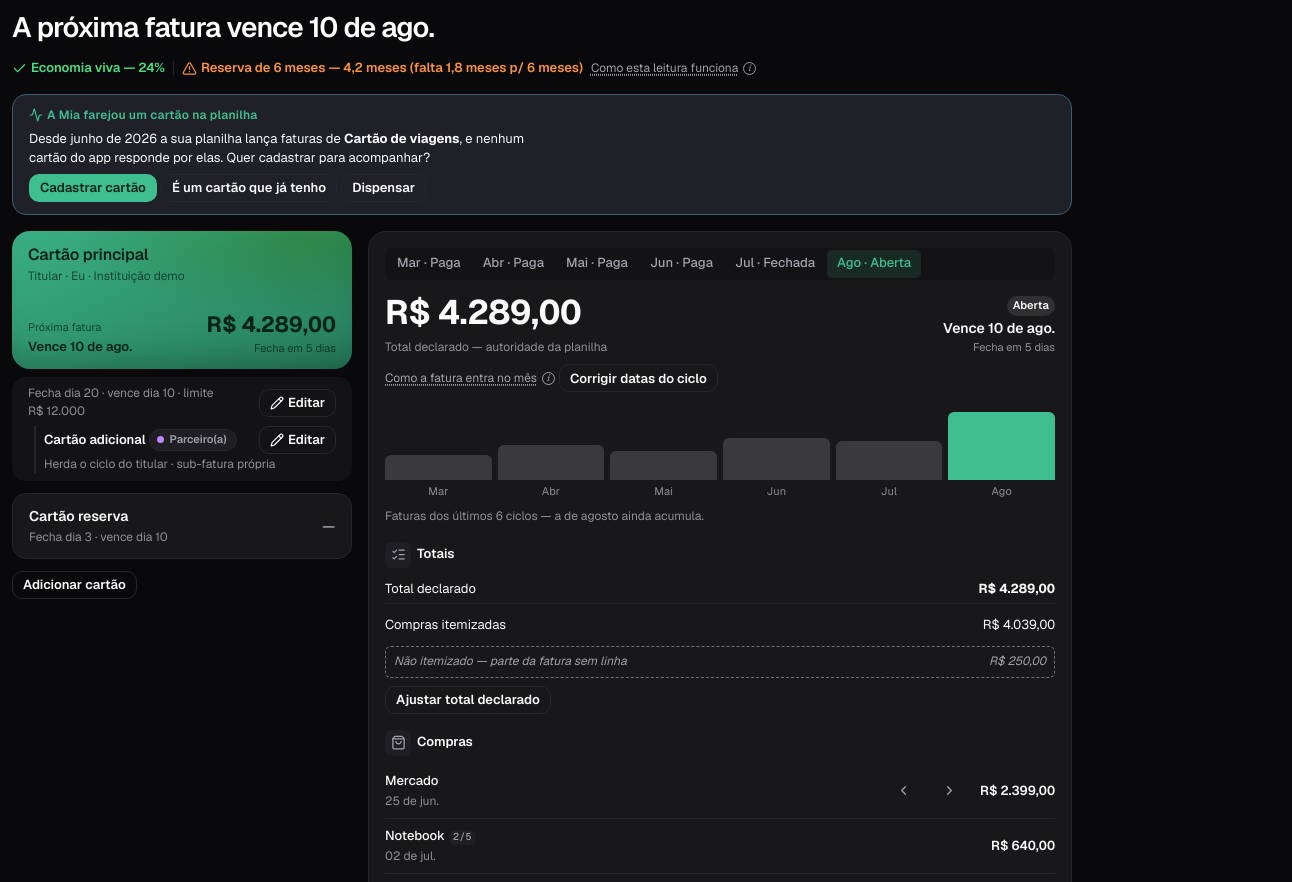
Test: Cartões › prefill do ajuste preserva centavos
Click the button "Ajustar total declarado".
click(468, 700)  # box [385,686,551,714]
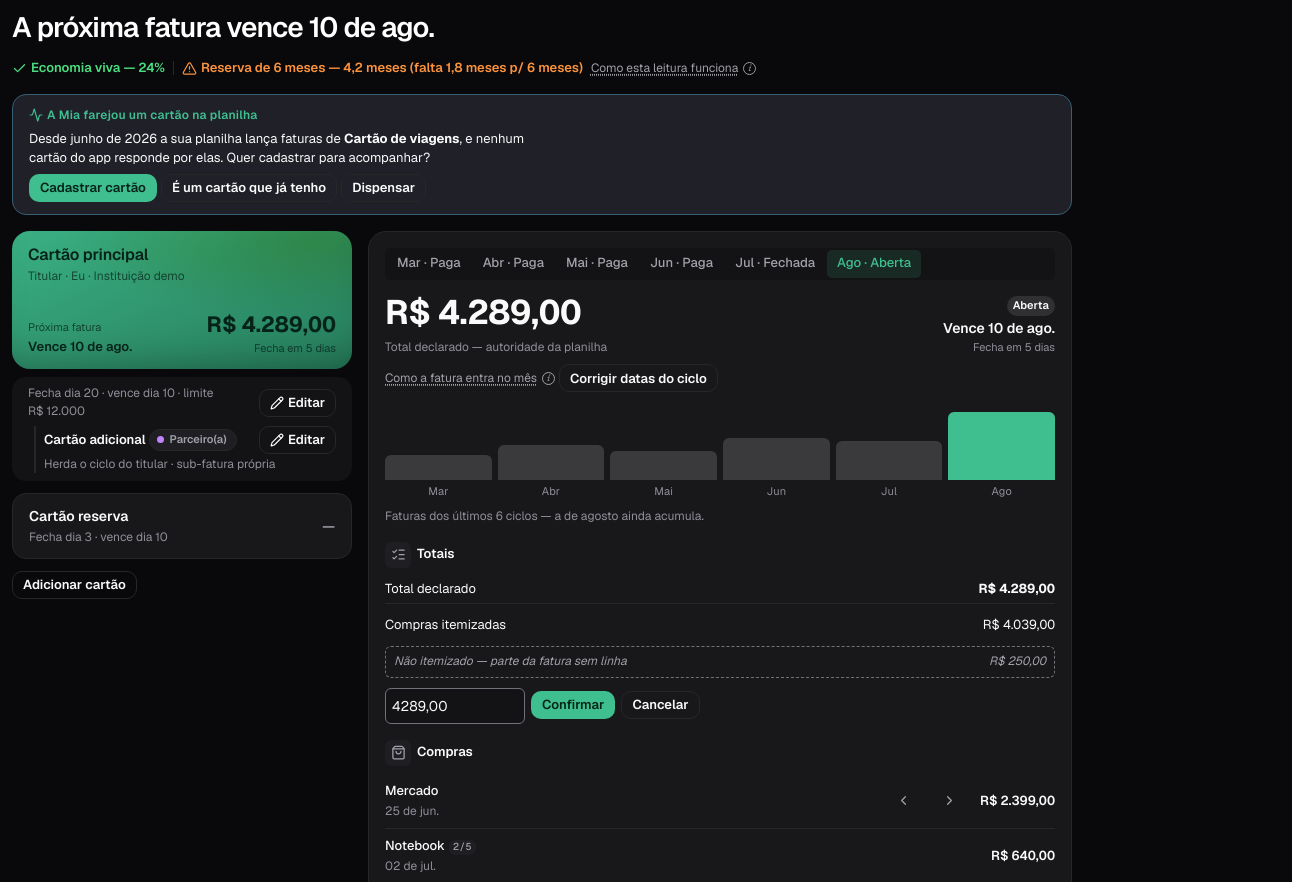
expect the field named "Total declarado" holds "4289,00": met, box [385,688,525,724]
